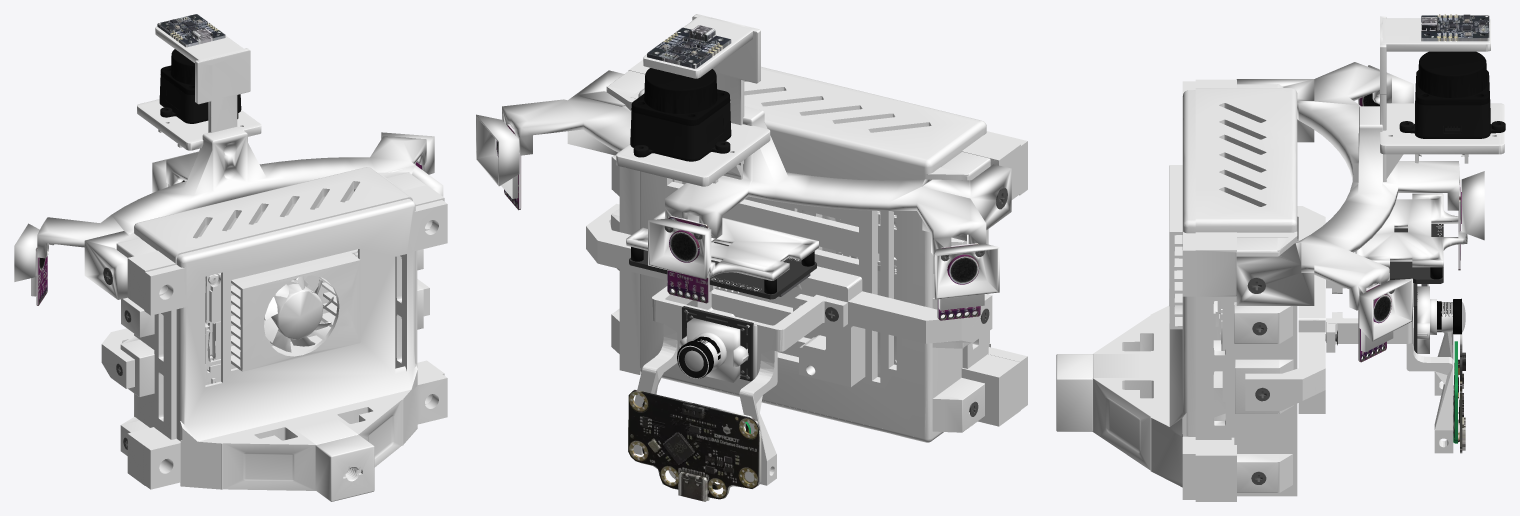
The model's file is module-mobile-v3.glb.
3 renders of one model, left to right at view 1: azimuth 30°, elevation 25°; view 2: azimuth 150°, elevation 25°; view 3: azimuth 270°, elevation 25°, orthographic. The views are drawn at different scales.
Visible parts, largest first — view 1: shell-rear, housing-rear, chassis-upper, jetson, mount-top, lidar-ld19, chassis-lower, imu, mic-c; view 2: housing-rear, chassis-upper, chassis-lower, tof-8x8, mount-top, lidar-ld19, camera-ar0234, frame-detail, imu, pcb-core, shell-rear, mic-b (+2 smaller); view 3: housing-rear, chassis-upper, shell-rear, chassis-lower, lidar-ld19, mount-top, jetson, imu, camera-ar0234, pcb-core, frame-detail, mic-a (+2 smaller).
Boxes of the visible parts, x1,y1,x2,y2 form: shell-rear: (144, 199, 447, 501); housing-rear: (116, 167, 444, 485); chassis-upper: (14, 126, 443, 299); jetson: (197, 200, 360, 385); mount-top: (137, 26, 261, 150); lidar-ld19: (159, 49, 241, 123); chassis-lower: (101, 279, 429, 388); imu: (157, 14, 225, 47); mic-c: (36, 247, 47, 305); housing-rear: (606, 60, 1020, 442); chassis-upper: (476, 70, 1011, 310); chassis-lower: (586, 203, 992, 485); tof-8x8: (628, 389, 761, 501); mount-top: (616, 14, 770, 186); lidar-ld19: (630, 68, 731, 161); camera-ar0234: (678, 306, 757, 382); frame-detail: (677, 306, 753, 381); imu: (647, 25, 731, 68); pcb-core: (629, 242, 816, 299); shell-rear: (761, 66, 1027, 410); mic-b: (667, 216, 709, 303); housing-rear: (1195, 79, 1297, 501); chassis-upper: (1236, 62, 1484, 352); shell-rear: (1056, 81, 1197, 499); chassis-lower: (1245, 206, 1453, 453); lidar-ld19: (1399, 51, 1505, 138); mount-top: (1380, 16, 1504, 181); jetson: (1169, 165, 1225, 420); imu: (1421, 14, 1489, 41); camera-ar0234: (1412, 283, 1465, 353); pcb-core: (1389, 224, 1443, 286); frame-detail: (1413, 283, 1461, 353); mic-a: (1358, 283, 1391, 362).
Size of the model in its own units: 2.41 by 2 by 1.9.
27 materials, 4 textured.
